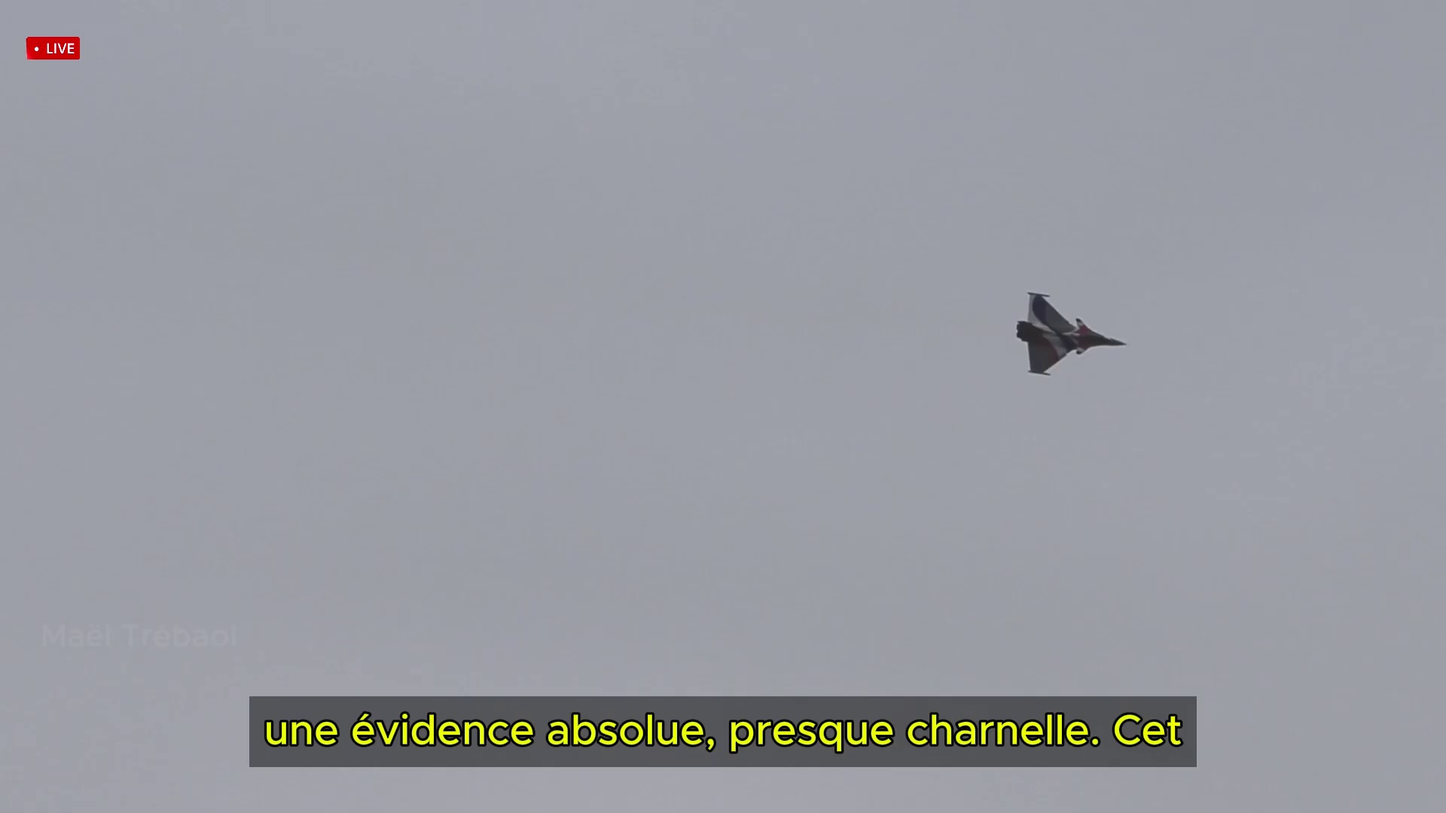Rafale: (1017, 292, 1128, 376)
